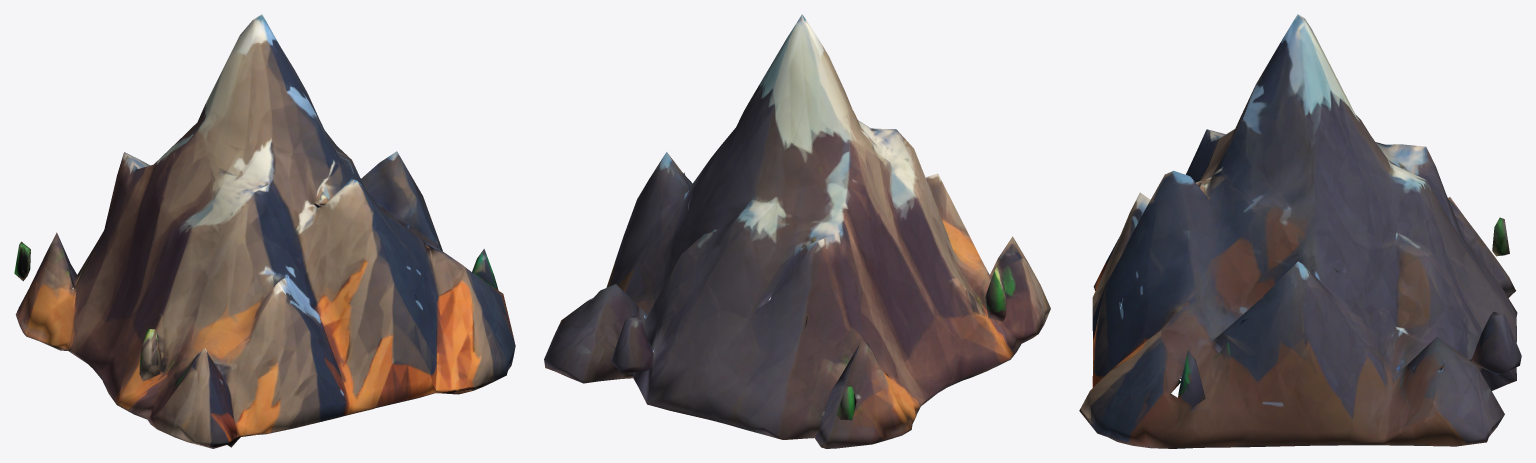
Rendered from Earth_Mountain.glb.
3 views of the same model, side by side, from view 1: azimuth 30°, elevation 25°; view 2: azimuth 150°, elevation 25°; view 3: azimuth 270°, elevation 25° (orthographic). The views are drawn at different scales.
Parts seen in each view (by area): view 1: Mesh_0; view 2: Mesh_0; view 3: Mesh_0.
Part boxes in pixels (bbox=[...]): Mesh_0: bbox=[14, 14, 515, 448]; Mesh_0: bbox=[544, 14, 1050, 448]; Mesh_0: bbox=[1079, 14, 1521, 448].
Bounding box in the file's own units: 0.2254 × 0.2 × 0.23.
1 material, 1 textured.
